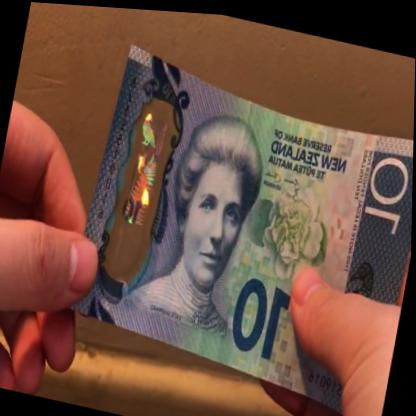10B: (107, 102, 176, 268)
